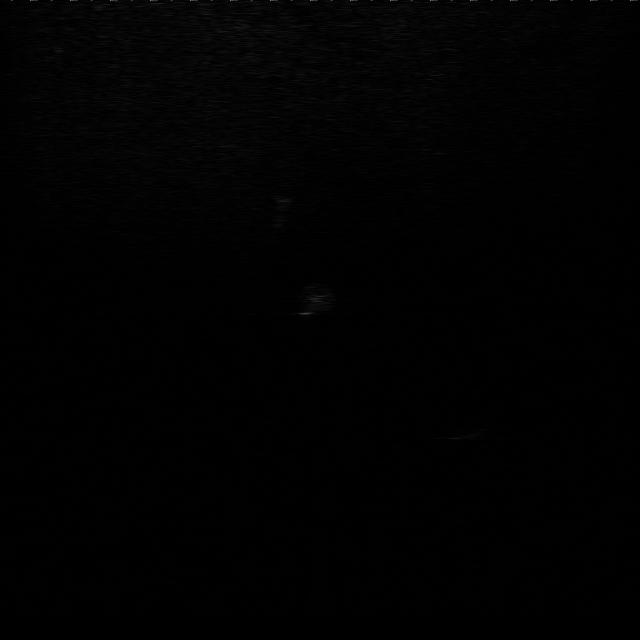ball: (264, 190, 301, 217)
circle cage: (289, 279, 341, 319)
